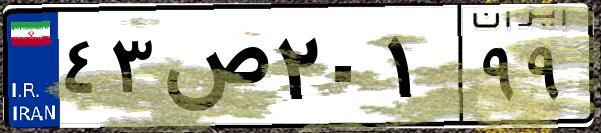0: (330, 28, 385, 110)
1: (385, 28, 445, 110)
2: (270, 28, 330, 110)
3: (110, 28, 158, 98)
4: (57, 26, 110, 100)
9: (475, 38, 525, 113), (525, 38, 570, 115)
ص: (158, 20, 270, 120)
